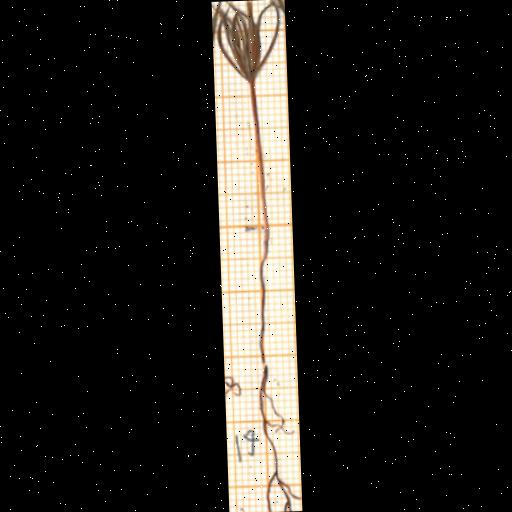flowerPinus: (214, 0, 279, 83)
rootPinus: (257, 229, 301, 511)
stemPinus: (247, 81, 267, 230)
